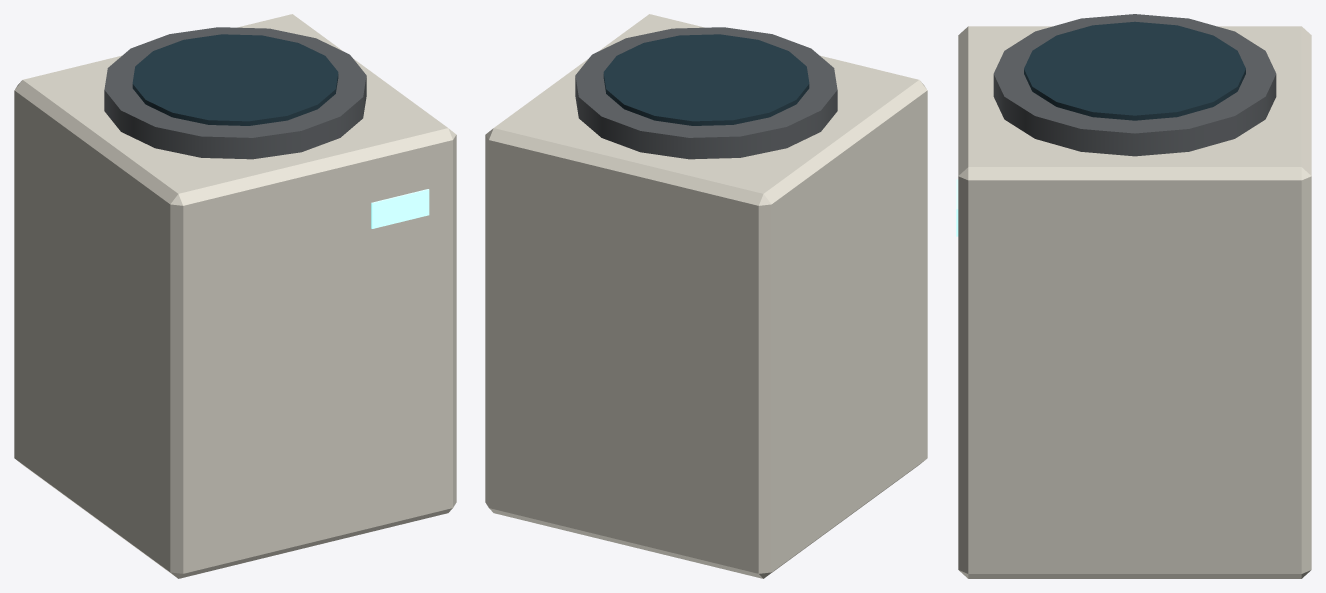
Rendered from centrifuge.glb.
3 views of the same model, side by side, from view 1: azimuth 30°, elevation 25°; view 2: azimuth 150°, elevation 25°; view 3: azimuth 270°, elevation 25° (orthographic). The views are drawn at different scales.
Parts seen in each view (by area): view 1: centrifuge; view 2: centrifuge; view 3: centrifuge.
Part boxes in pixels (x1,y1,x2,y2): centrifuge: (14, 14, 456, 578); centrifuge: (485, 14, 927, 578); centrifuge: (956, 14, 1311, 578).
Size of the model in its own units: 0.7 by 0.961 by 0.704.
